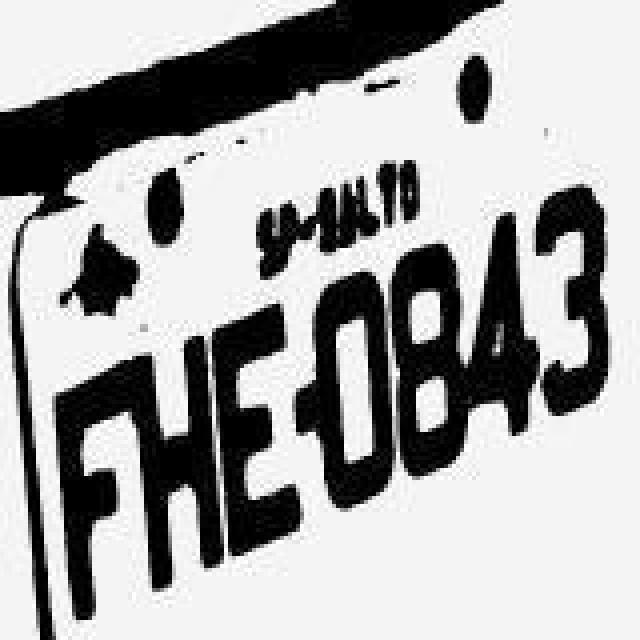3: (536, 178, 616, 438)
4: (466, 202, 542, 470)
8: (392, 238, 472, 490)
E: (208, 298, 304, 558)
F: (52, 358, 132, 618)
H: (128, 336, 224, 592)
O: (312, 272, 400, 512)
